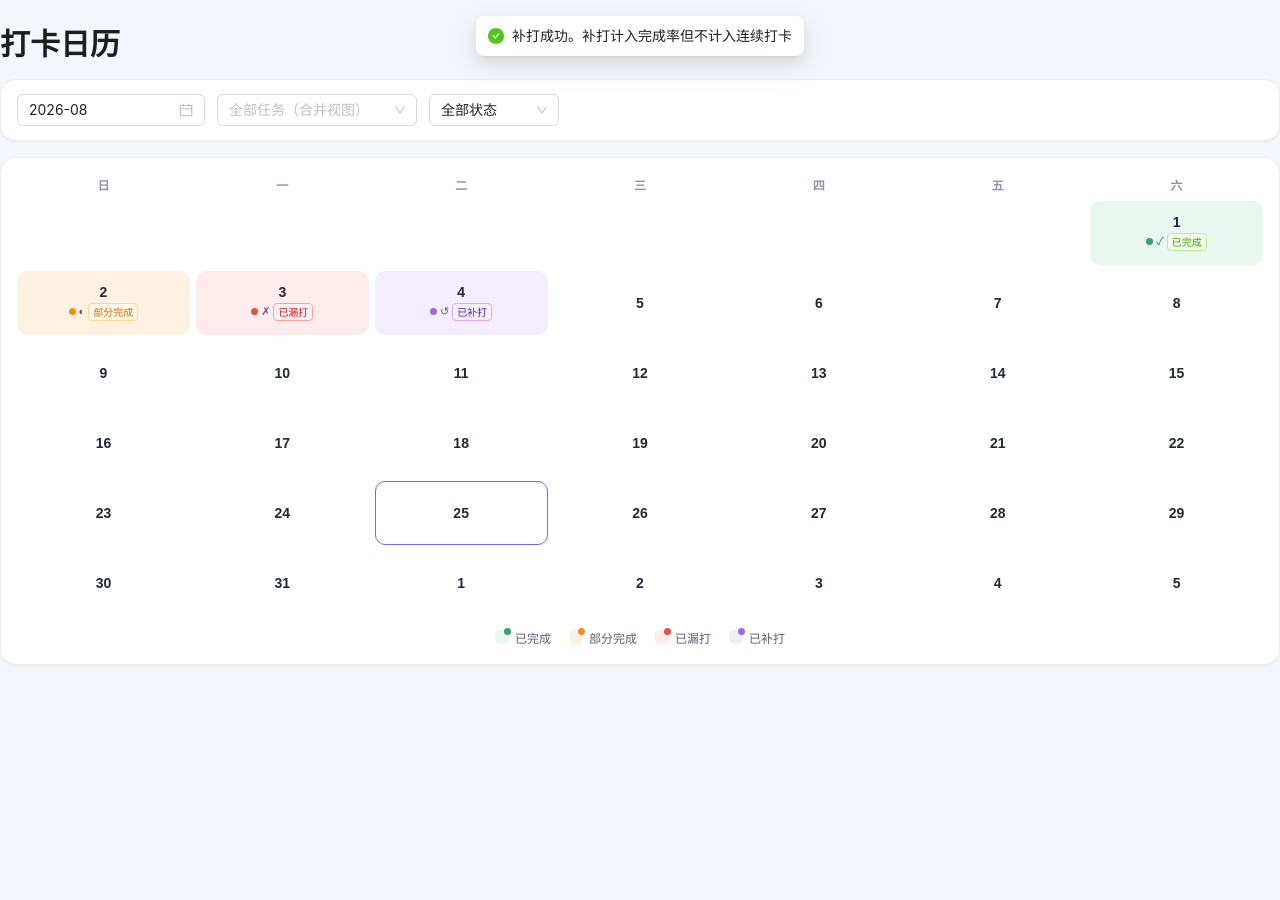
Test: CalendarPage › hides the makeup form when the day is already made up and shows immutability notice
Press the mouse on the dropdown labelled "全部任务（合并视图）": (299, 109) [229, 101, 369, 118]
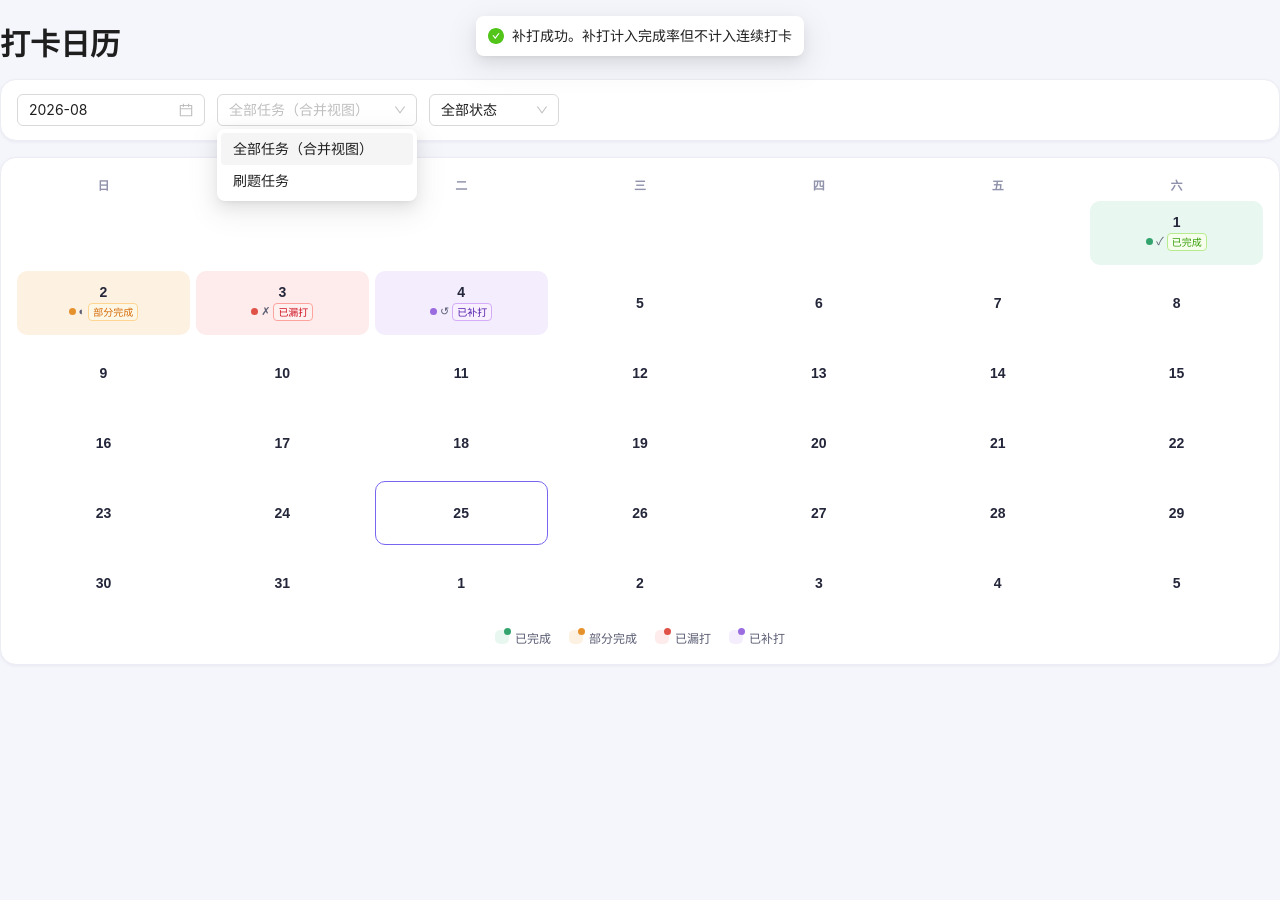
Click the element showing "刷题任务": (261, 180) [233, 172, 289, 189]
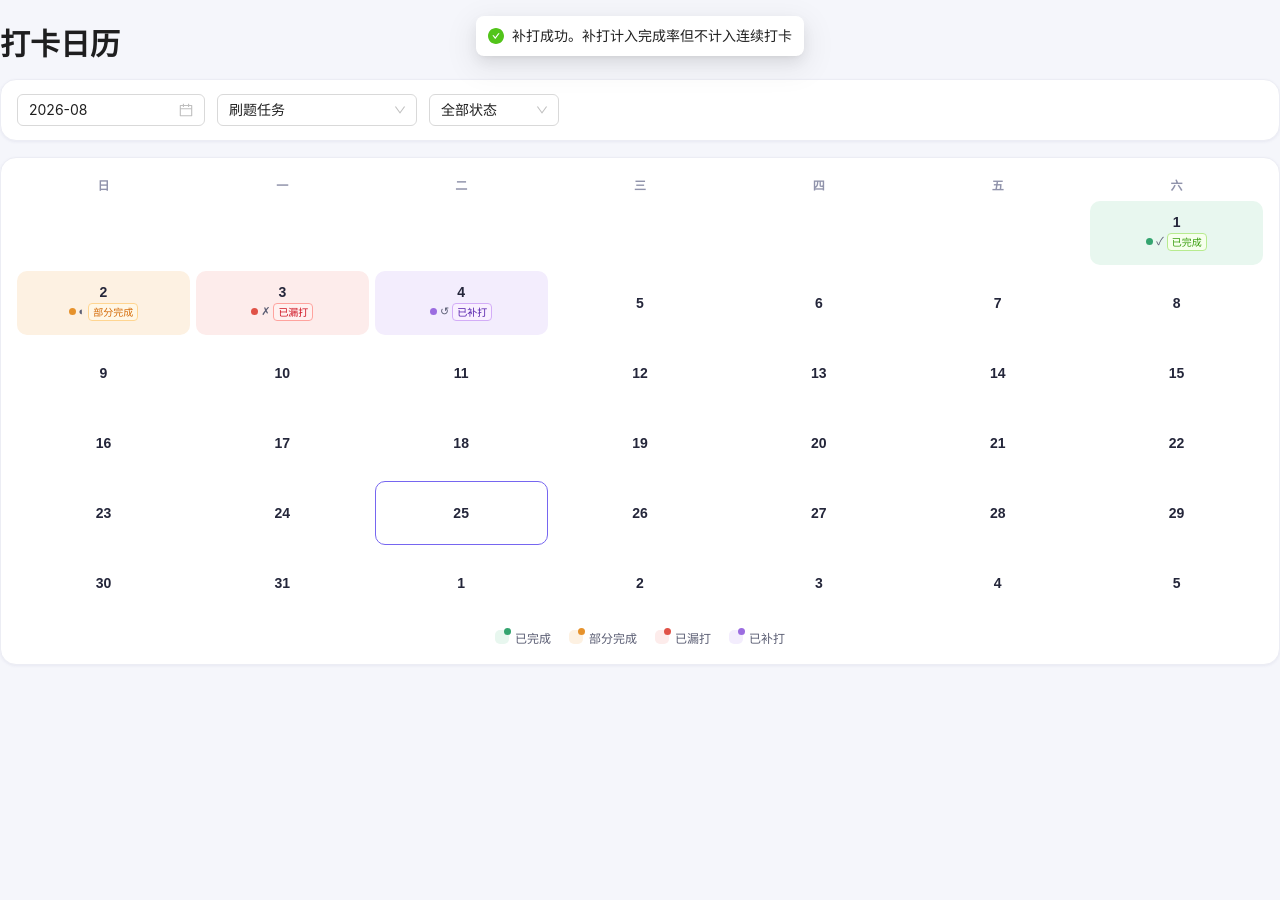
Click the button with test id "calendar-day" showing "4 ↺ 已补打": (461, 303) [375, 271, 548, 335]
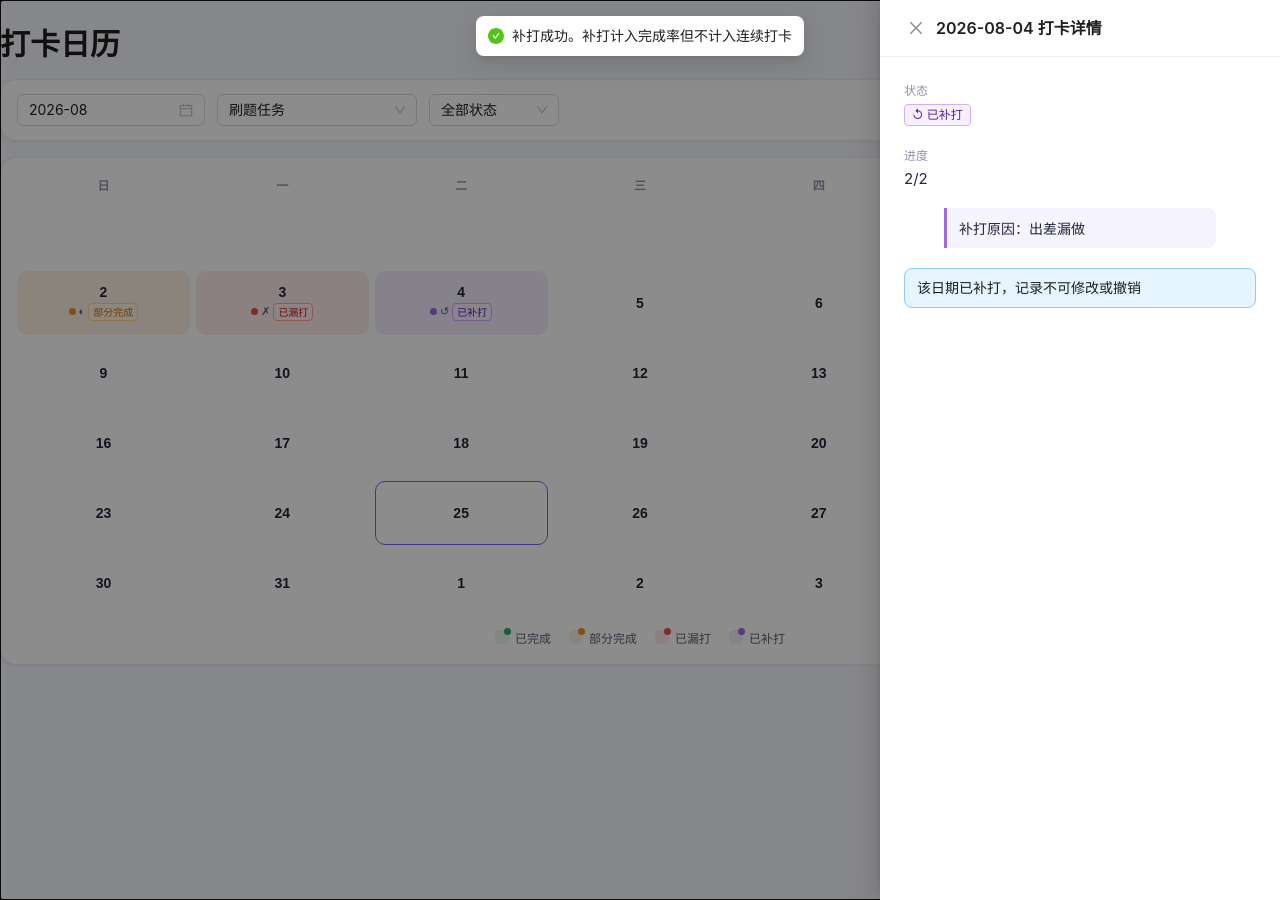
Check: the text "该日期已补打，记录不可修改或撤销" is shown, box [917, 279, 1141, 296]
Check: the text "补打原因：出差漏做" is shown, box [944, 208, 1216, 248]
